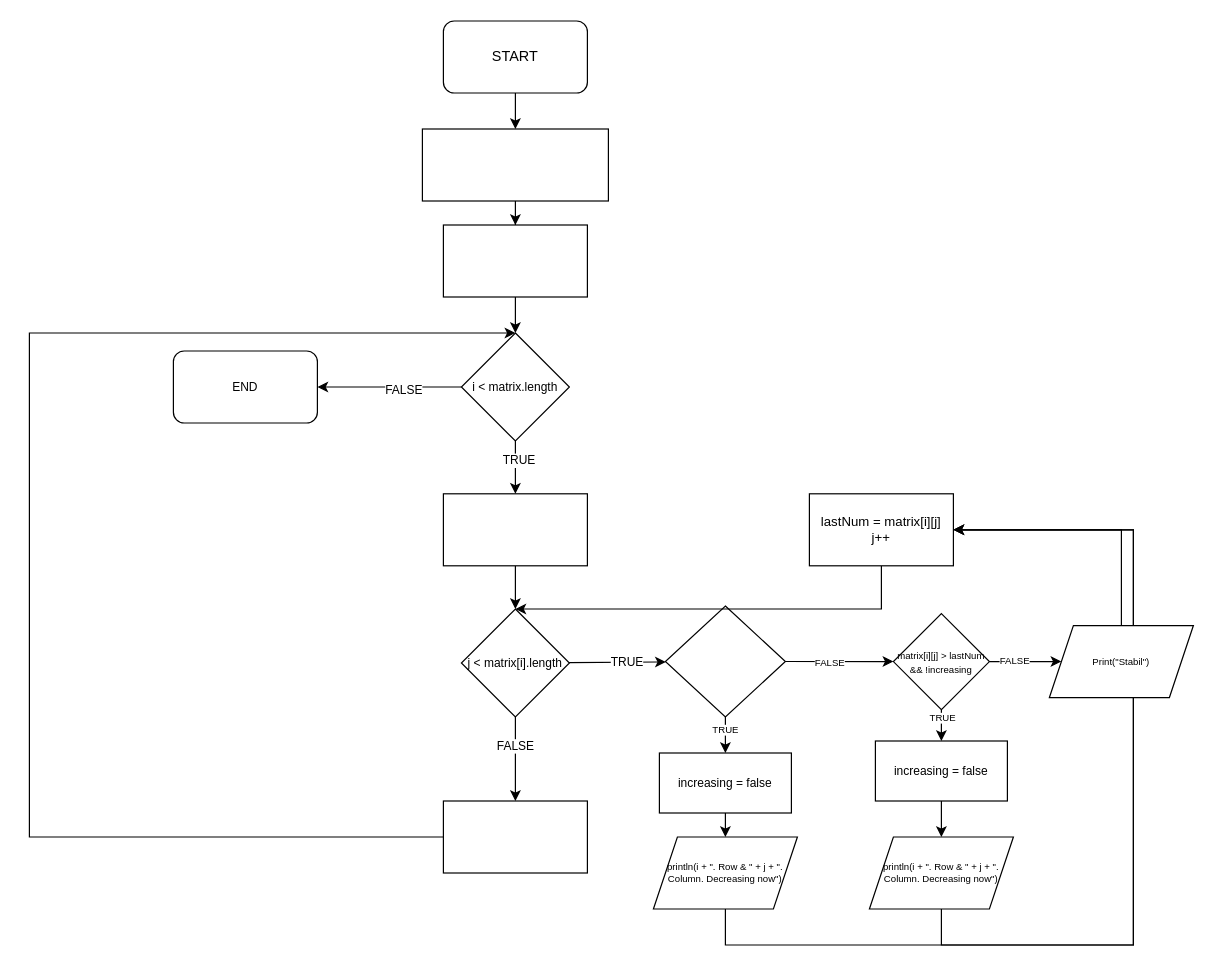
This 1214x976 diagram has some shape labels left out. The centre of each missing label's shape, as x and y in pixels:
"i++" belongs at (x=514, y=836).
"increasing && matrix[i][j] < lastNum" belongs at (x=724, y=661).
"int i = 0" belongs at (x=514, y=260).
"int j = 0" belongs at (x=514, y=529).
"int[][] matrix int lastNum = matrix[0][0] boolean increasing = true" belongs at (x=514, y=164).
